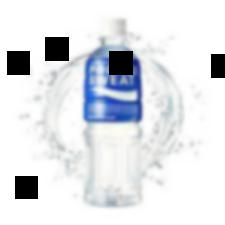pocarisweat: (81, 16, 144, 209)
